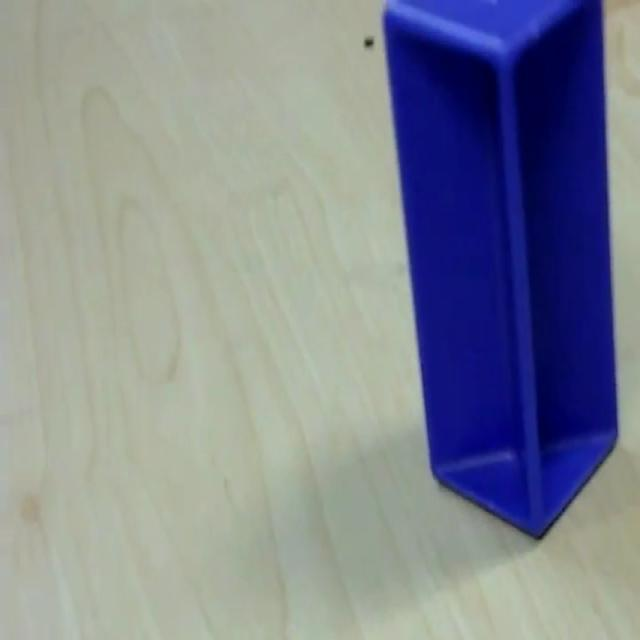blue_block: (380, 0, 620, 540)
